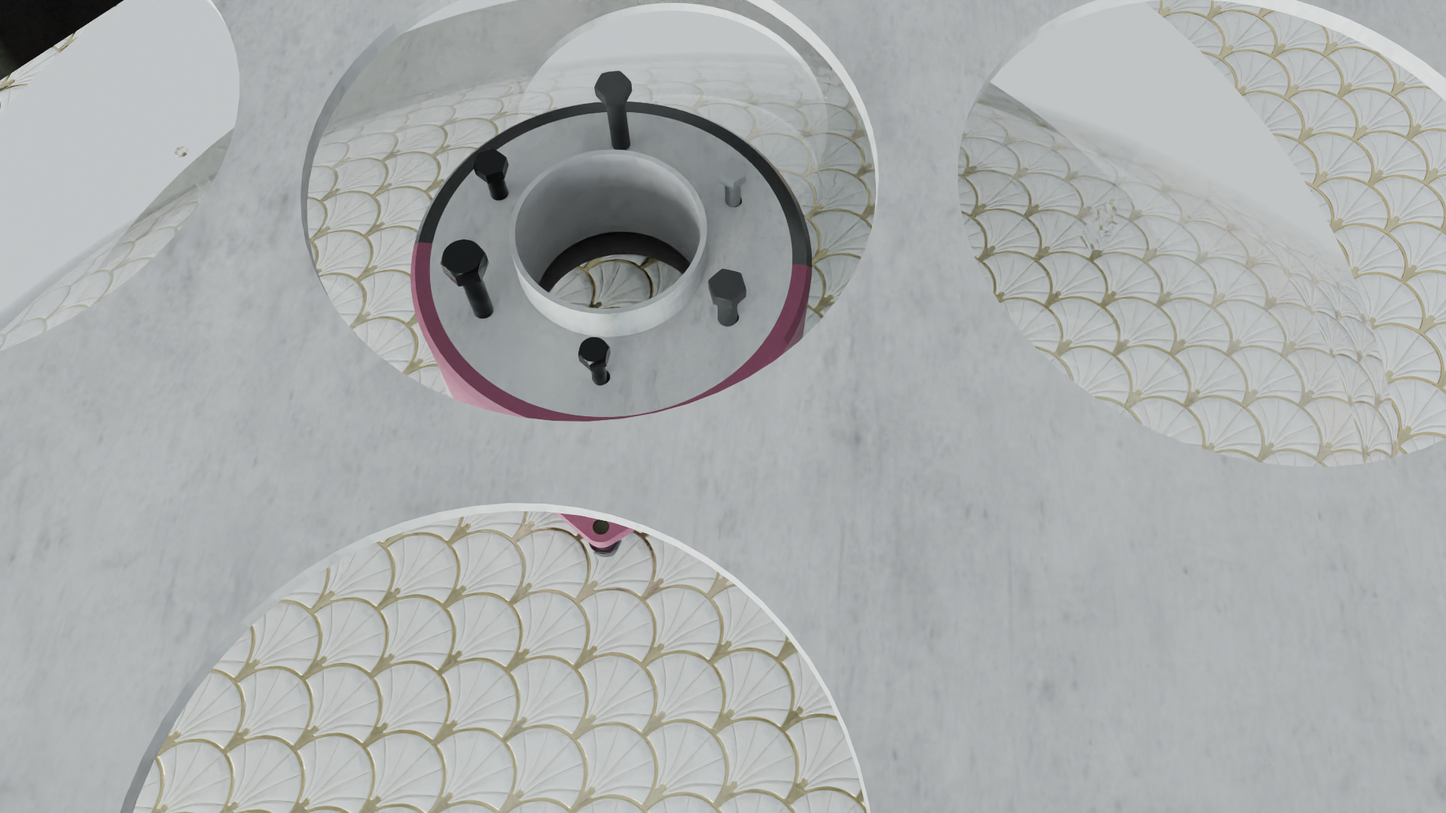bolt: (441, 239, 486, 278), (709, 269, 746, 302), (594, 71, 631, 98), (578, 336, 609, 365), (474, 149, 507, 176), (719, 158, 746, 182)
